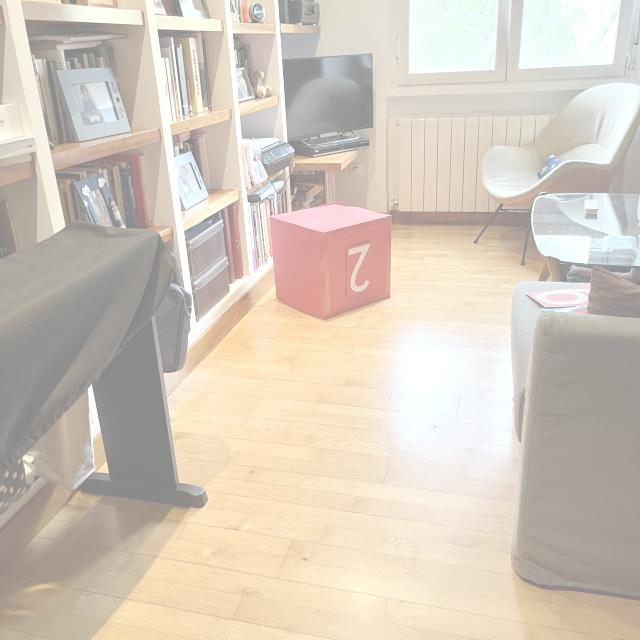box: (265, 198, 395, 322)
